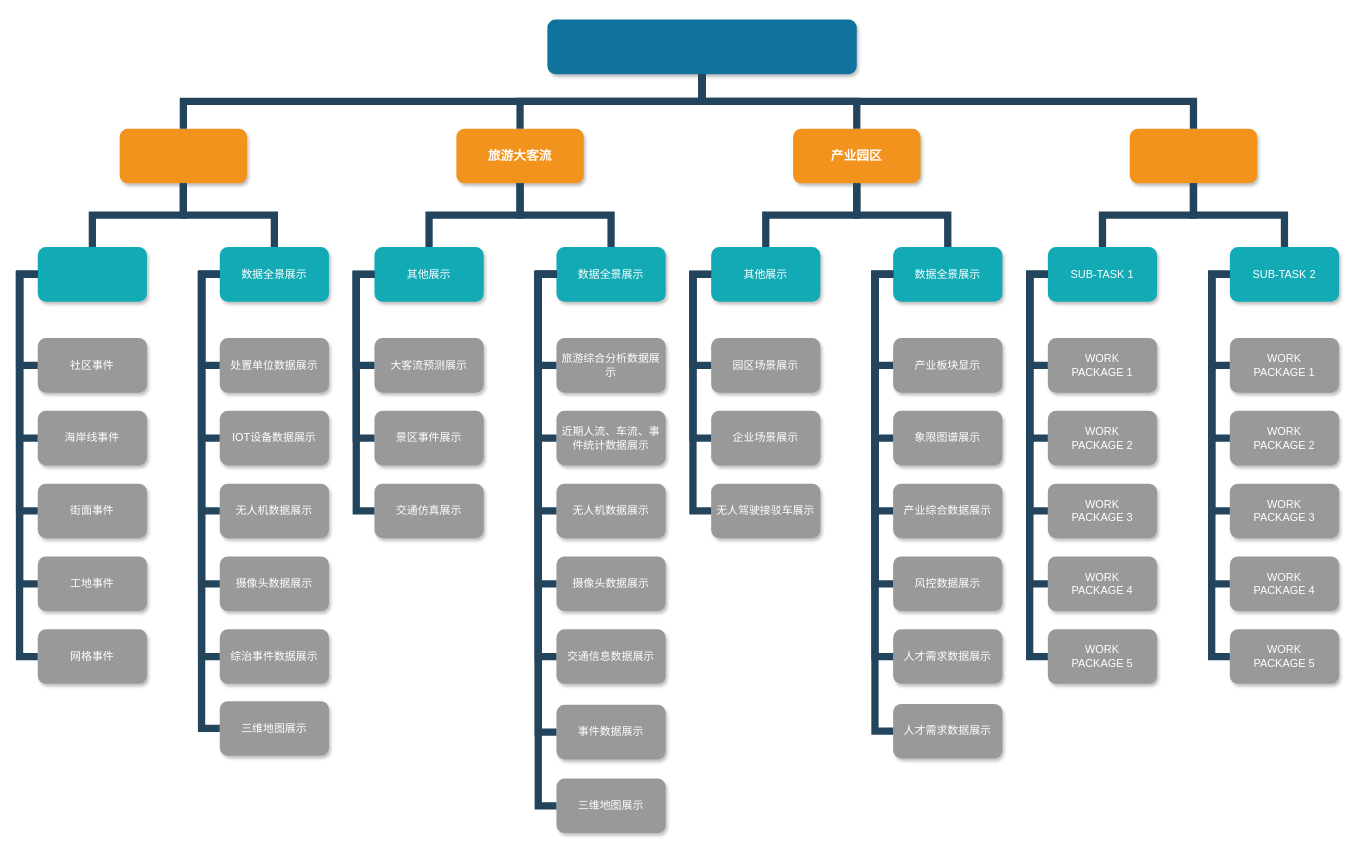
The diagram is 1360 pixels wide and 854 high, and some of its shapes have lost their labels. Here are the shapes that lost their labels. From the top down, the centre of each, then its label:
At pixel 702 47: "临港城市大脑".
At pixel 184 157: "社区综合治理".
At pixel 1194 157: "中控台".
At pixel 93 275: "事件展示".
